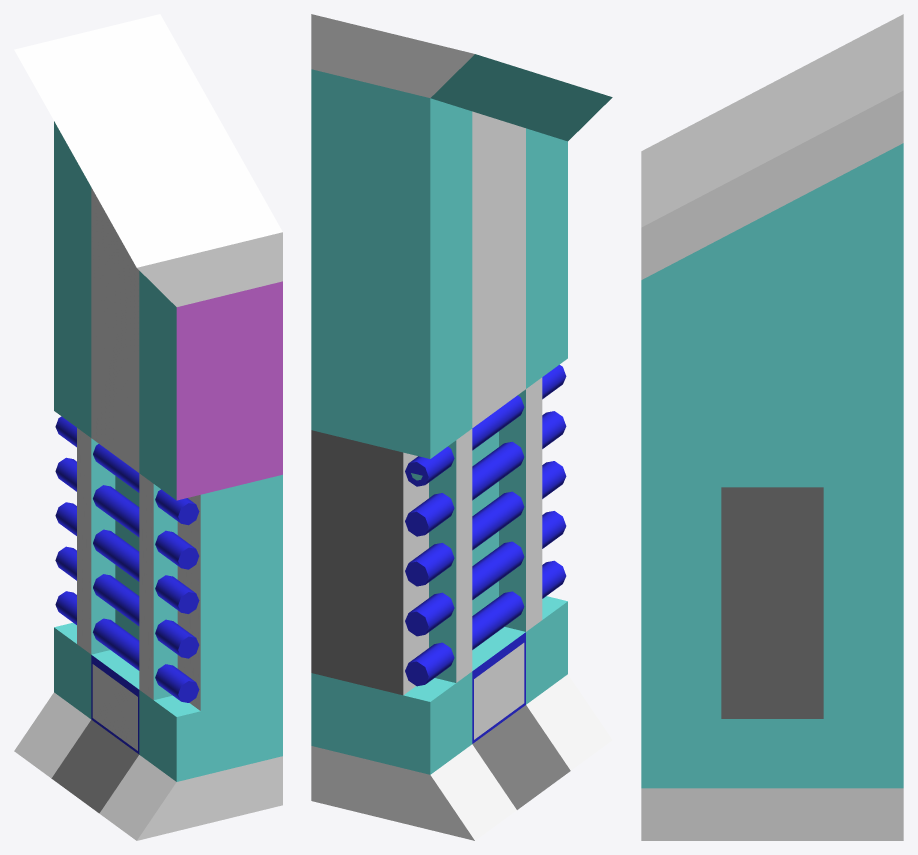
The model's file is WallBaseToTall.fbx.
The picture shows the model from 3 angles, left to right: view 1: azimuth 30°, elevation 25°; view 2: azimuth 150°, elevation 25°; view 3: azimuth 270°, elevation 25°; orthographic projection. The views are drawn at different scales.
Visible parts, largest first — view 1: BaseToTall; view 2: BaseToTall; view 3: BaseToTall.
Boxes of the visible parts, x1,y1,x2,y2 form: BaseToTall: (14, 14, 282, 840); BaseToTall: (311, 14, 612, 840); BaseToTall: (641, 14, 903, 840).
Size of the model in its own units: 54.17 by 248 by 78.74.
